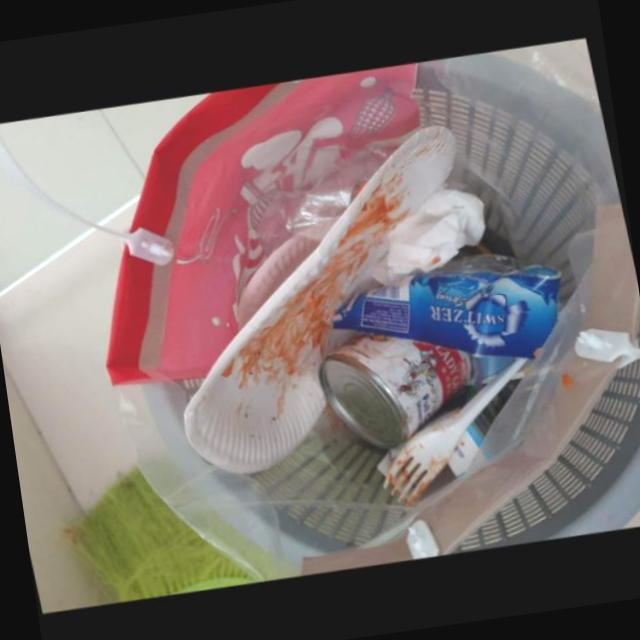giay: (184, 120, 459, 472), (373, 186, 487, 282)
nhom: (321, 332, 474, 446)
